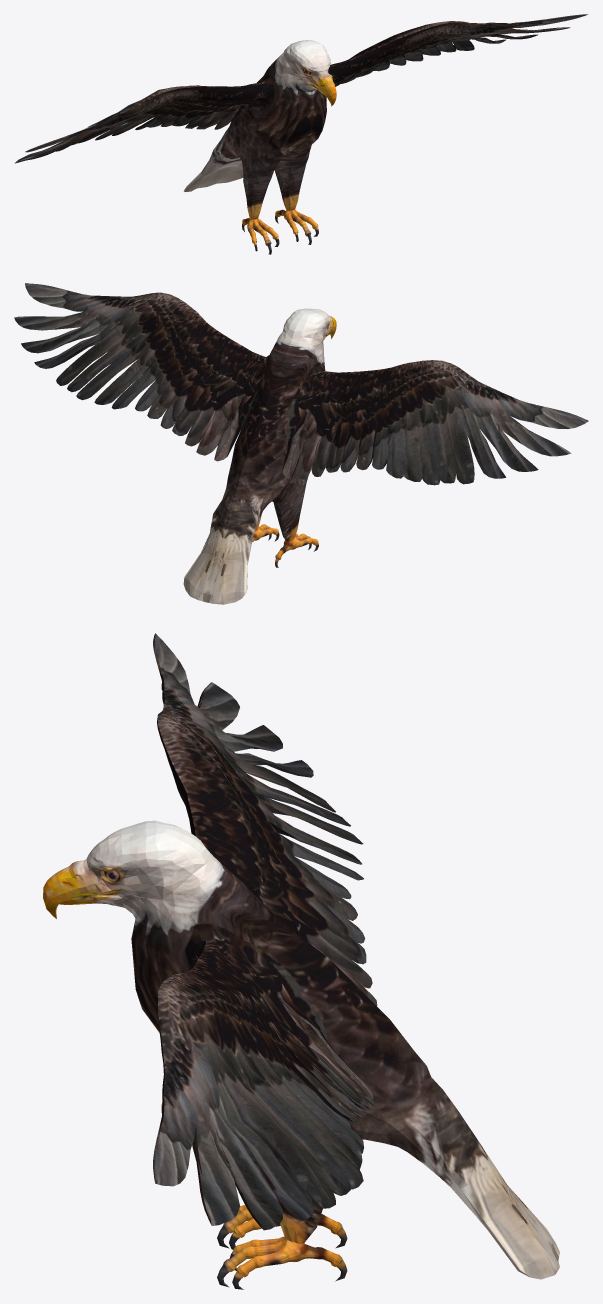
File: Eagle.fbx
3 renders of one model, top to bottom at view 1: azimuth 30°, elevation 25°; view 2: azimuth 150°, elevation 25°; view 3: azimuth 270°, elevation 25°, orthographic. The views are drawn at different scales.
Visible parts, largest first — view 1: Eagle.002; view 2: Eagle.002; view 3: Eagle.002.
Boxes of the visible parts, bbox=[...] form: Eagle.002: bbox=[14, 14, 588, 254]; Eagle.002: bbox=[14, 283, 588, 604]; Eagle.002: bbox=[43, 633, 559, 1289].
Bounding box in the file's own units: 714 × 266 × 283.
